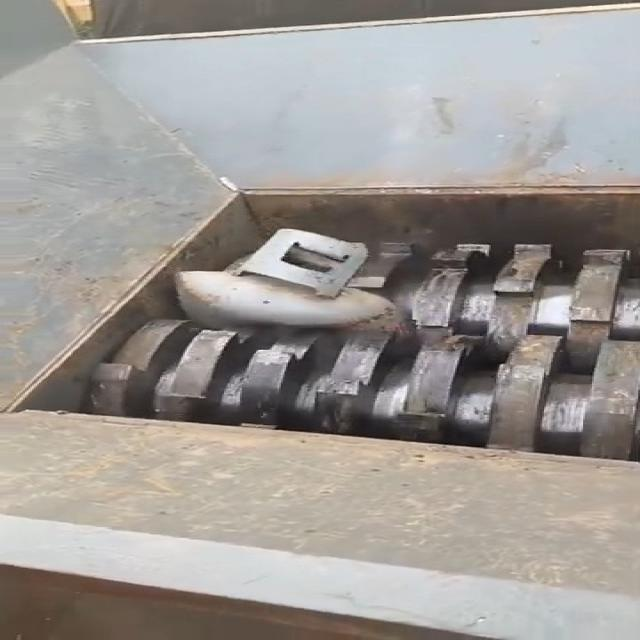Broyeur: (0, 156, 640, 480)
